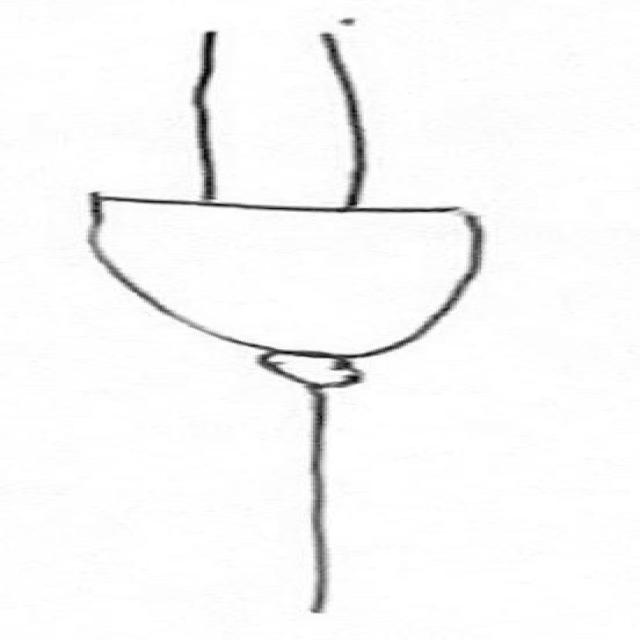NAND: (42, 178, 564, 400)
